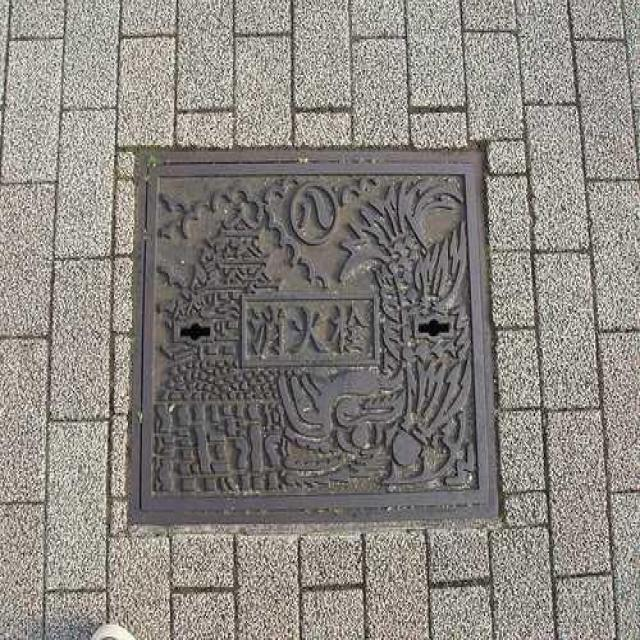manhole: (131, 150, 498, 524)
